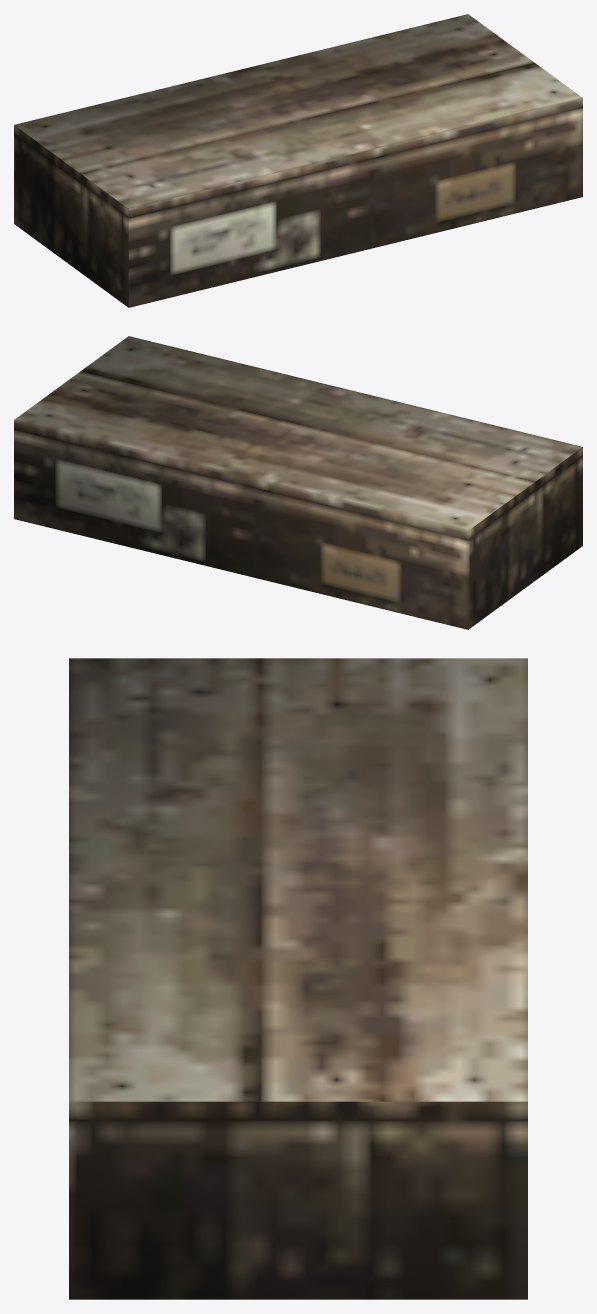
3 renders of one model, top to bottom at view 1: azimuth 30°, elevation 25°; view 2: azimuth 150°, elevation 25°; view 3: azimuth 270°, elevation 25°, orthographic. The views are drawn at different scales.
Parts seen in each view (by area): view 1: OM_20_mi_box06A; view 2: OM_20_mi_box06A; view 3: OM_20_mi_box06A.
Part boxes in pixels (left/top/right/bottom): OM_20_mi_box06A: left=14, top=14, right=582, bottom=307; OM_20_mi_box06A: left=14, top=336, right=582, bottom=629; OM_20_mi_box06A: left=69, top=658, right=527, bottom=1299.
Bounding box in the file's own units: 0.9792 × 0.204 × 0.4284.
Materials: 1 (1 with a texture image).
